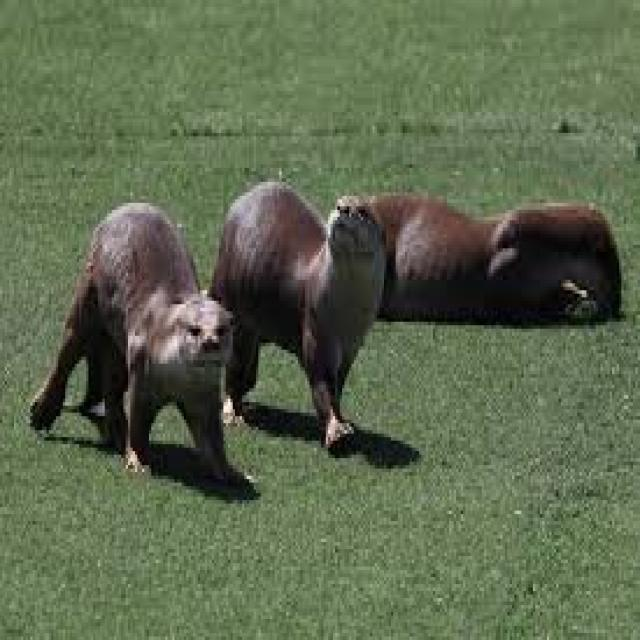Otter: (30, 194, 233, 493), (219, 171, 390, 443)
